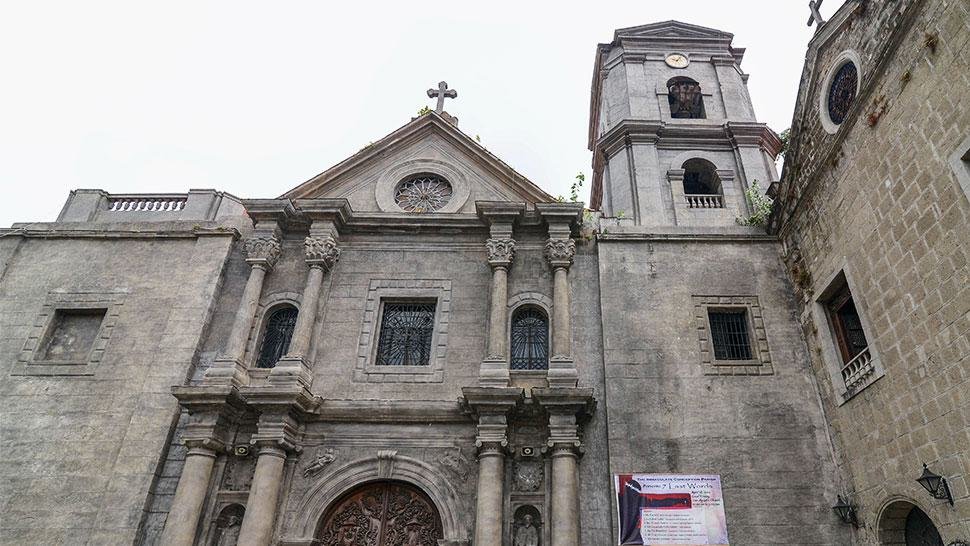Environmental Damage: (547, 187, 628, 249), (740, 186, 779, 235)
San Agustin Church: (196, 5, 793, 546)
